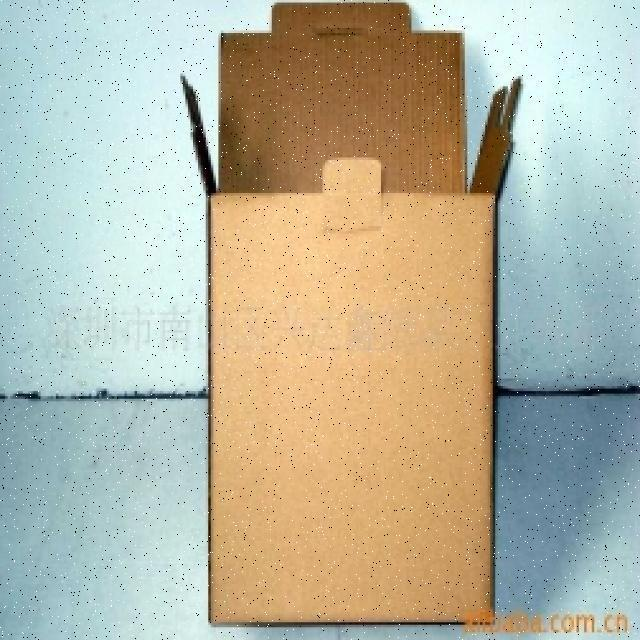box: (182, 12, 523, 640)
